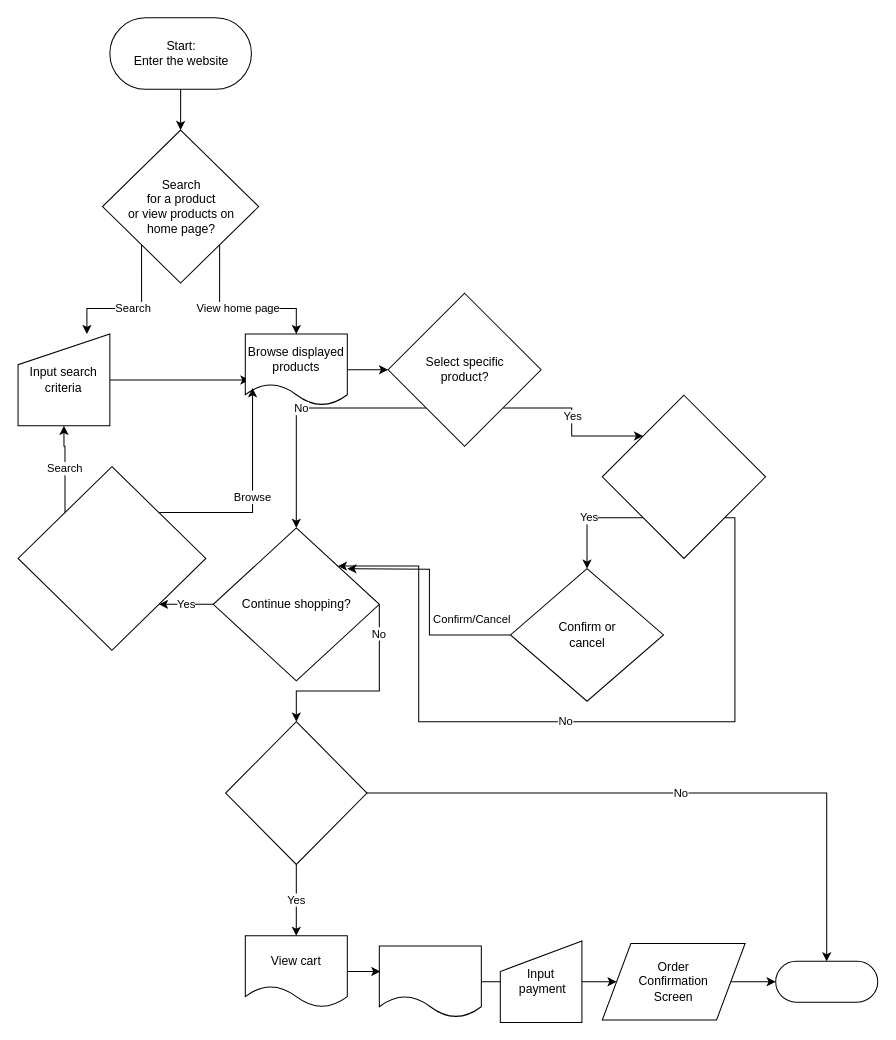
This 896x1040 diagram has some shape labels left out. Here are the shapes that lost their labels. From the top down, the centre of each, then its label:
At (x=683, y=476): "Add the product to the cart?".
At (x=111, y=558): "Search for another product or continues browsing?".
At (x=296, y=792): "Go to checkout?".
At (x=429, y=981): "View Payment".
At (x=826, y=981): "End: Leave website".
